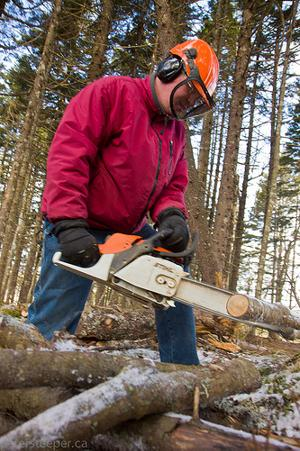person: (24, 38, 221, 368)
